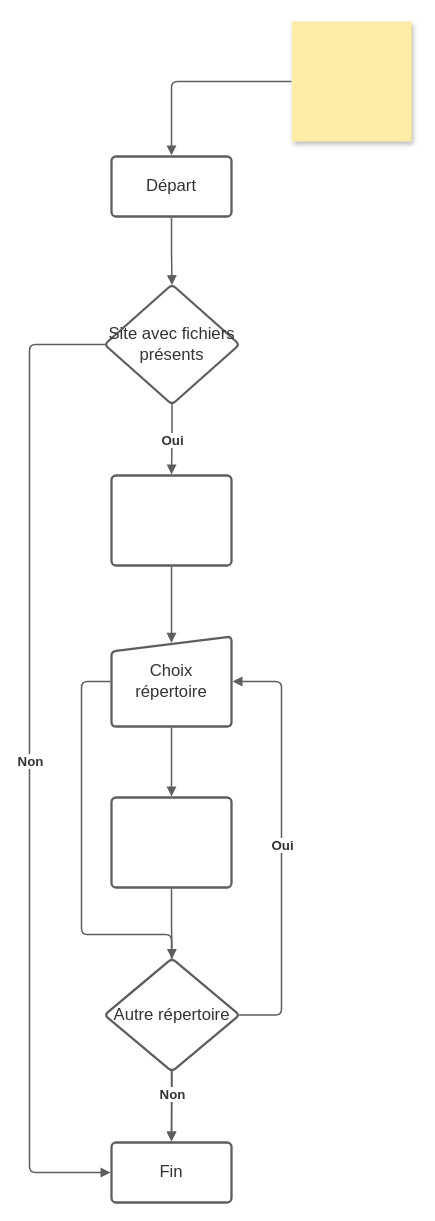
This 435x1221 diagram has some shape labels left out. The centre of each missing label's shape, as x and y in pixels:
Affichage du contenu du repertoire: (x=171, y=842)
cron toutes les 5 minutes: (x=352, y=82)
Site avec fichier: (x=171, y=520)
